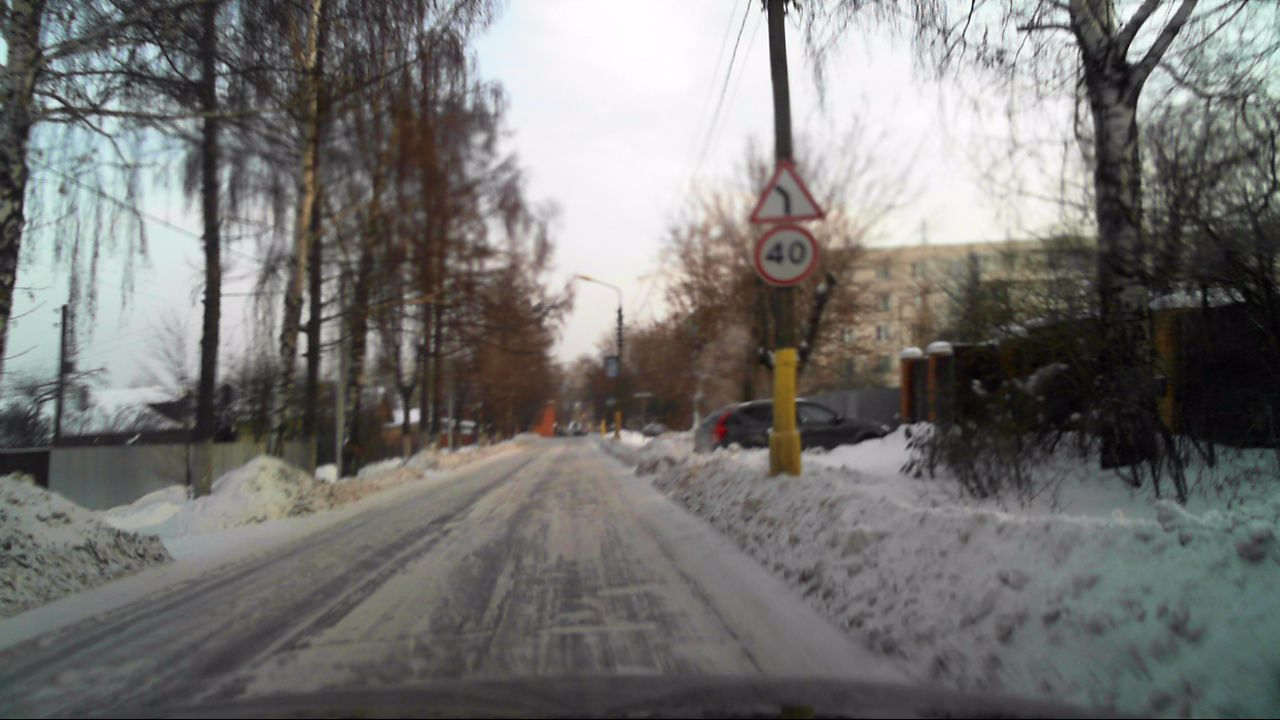speed_warning_40: (753, 225, 819, 286)
